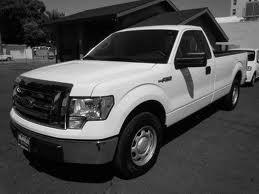car: (8, 22, 250, 183)
